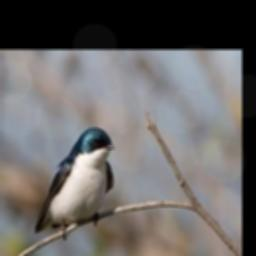Swallow: (33, 125, 114, 241)
